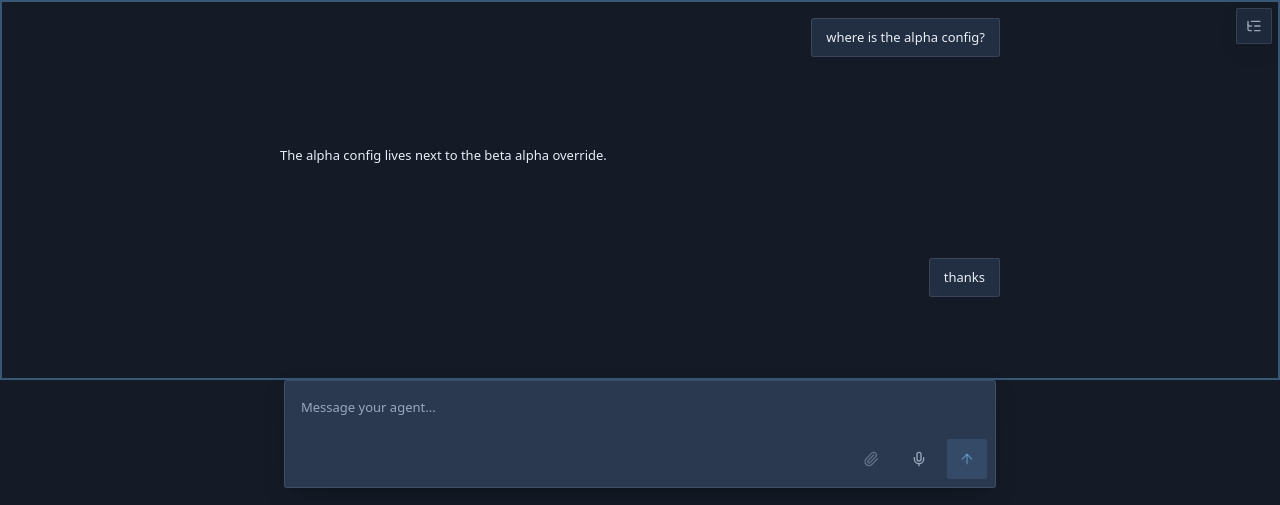
Test: ChatView — find in conversation › does not crash with a query that has no matches (shows none)
Type keys "{Meta>}f{/Meta}"
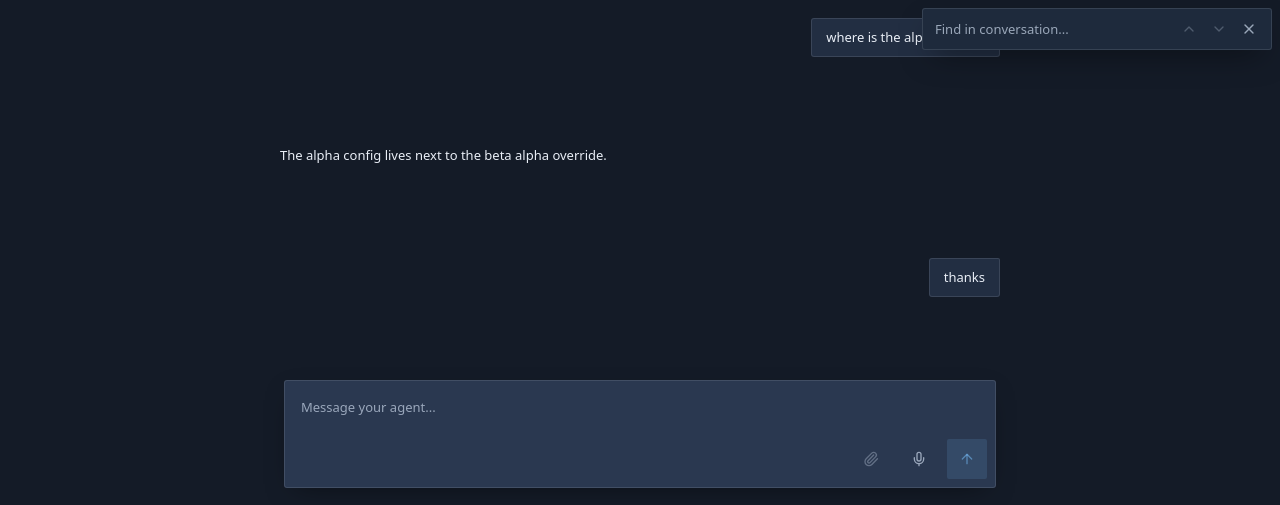
Type "zzzznope" into the search field at (1019, 29), box x1=931 y1=15 x2=1107 y2=43
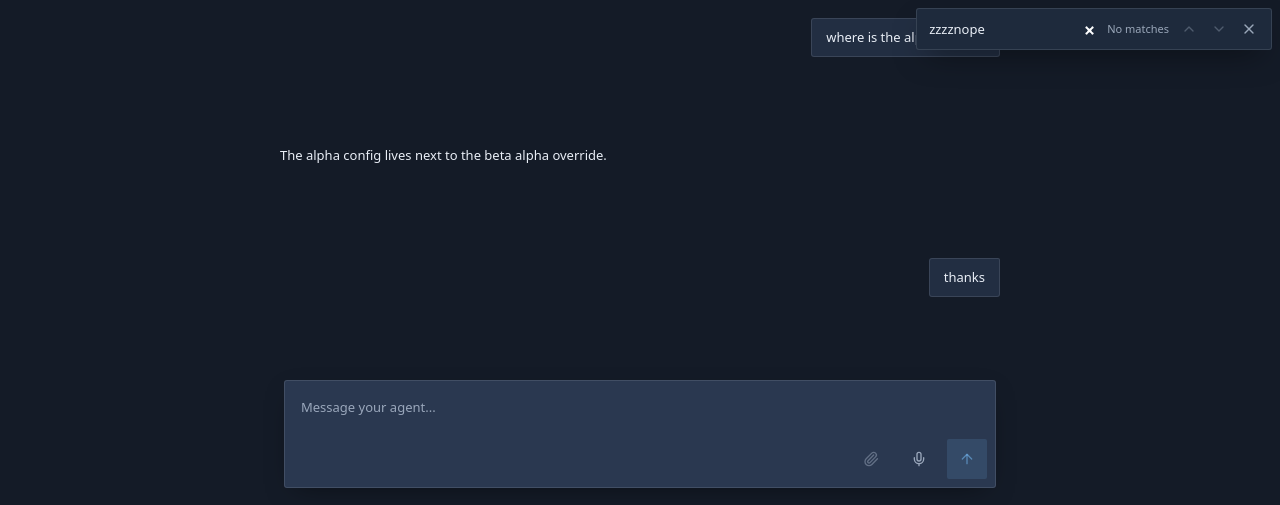
Check: the text "No matches" is shown, box x1=1107 y1=21 x2=1169 y2=37
